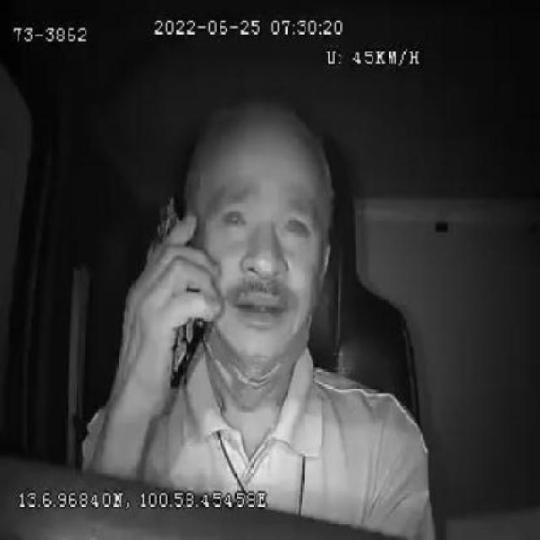phone: (145, 190, 211, 388)
